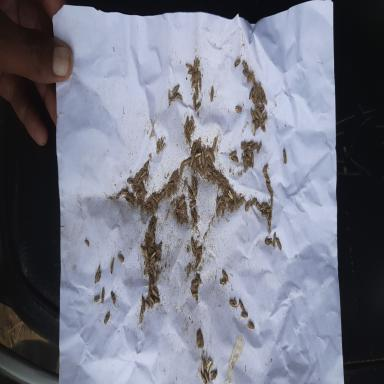pbw: (228, 300, 238, 312), (200, 371, 208, 384), (110, 290, 116, 307), (238, 298, 245, 312), (275, 237, 282, 251), (142, 160, 150, 171), (256, 202, 264, 213), (218, 196, 226, 207), (263, 171, 270, 183), (172, 84, 180, 94), (210, 370, 218, 380), (138, 308, 143, 324), (195, 272, 201, 285), (256, 142, 262, 155), (178, 196, 185, 207), (158, 189, 165, 200), (247, 73, 254, 84), (152, 287, 159, 298), (194, 245, 200, 257), (245, 198, 251, 210), (142, 296, 146, 314), (282, 149, 286, 167), (228, 150, 237, 158), (95, 265, 99, 283), (234, 105, 242, 114), (256, 106, 262, 118), (191, 80, 198, 90), (204, 369, 209, 383), (104, 311, 109, 325), (265, 236, 272, 246), (134, 179, 141, 189), (117, 254, 124, 264), (250, 152, 254, 169), (110, 257, 114, 274), (257, 81, 261, 98), (228, 189, 234, 200), (150, 223, 156, 234), (222, 270, 228, 281), (140, 181, 146, 192), (249, 87, 254, 100), (255, 97, 260, 110), (250, 108, 255, 121), (246, 322, 254, 330), (198, 76, 202, 92), (250, 143, 258, 151), (210, 86, 214, 102), (242, 69, 250, 77), (189, 199, 196, 208), (250, 197, 257, 206), (149, 251, 156, 260), (194, 84, 198, 99), (148, 219, 152, 234), (262, 163, 268, 173), (217, 204, 223, 214), (272, 231, 276, 246), (171, 93, 177, 103), (242, 60, 248, 70), (261, 112, 267, 122), (145, 261, 149, 275), (252, 122, 256, 136), (148, 236, 152, 250), (219, 278, 227, 285), (184, 116, 188, 130), (195, 254, 199, 268), (187, 67, 194, 75), (208, 363, 213, 374), (193, 144, 198, 155), (234, 58, 240, 67), (238, 197, 244, 206), (193, 91, 196, 109), (267, 186, 273, 195), (149, 263, 155, 272), (101, 286, 104, 304), (195, 102, 201, 111), (192, 178, 196, 191), (188, 186, 192, 199), (190, 153, 194, 166), (191, 236, 194, 253), (251, 94, 256, 104), (241, 311, 248, 318), (231, 155, 238, 162), (184, 157, 190, 165), (140, 170, 146, 178), (223, 196, 231, 202), (168, 90, 171, 106), (176, 92, 182, 100), (201, 358, 204, 374), (253, 111, 259, 119), (156, 138, 159, 154), (194, 152, 202, 158), (265, 180, 271, 188), (149, 266, 154, 275), (262, 96, 267, 105), (188, 119, 192, 130), (189, 123, 193, 134), (261, 87, 265, 98), (145, 249, 149, 260), (266, 206, 273, 212), (167, 180, 174, 186), (125, 198, 132, 204), (185, 63, 192, 69), (144, 301, 150, 308), (116, 191, 122, 198), (191, 72, 195, 82), (161, 142, 165, 152), (84, 239, 89, 247), (207, 360, 212, 368), (152, 194, 157, 202), (150, 256, 155, 264), (199, 156, 202, 169), (127, 178, 133, 184), (247, 140, 253, 146), (136, 190, 142, 196), (203, 357, 206, 369), (94, 297, 101, 302), (191, 176, 193, 192), (202, 150, 204, 166), (150, 296, 154, 304), (252, 77, 256, 85), (194, 56, 197, 66), (262, 212, 268, 217), (160, 137, 162, 151), (196, 58, 198, 72), (260, 104, 264, 111), (216, 195, 218, 209), (262, 119, 266, 126), (255, 83, 257, 96), (206, 358, 210, 364), (152, 234, 155, 242), (142, 174, 148, 178), (193, 188, 195, 199), (271, 191, 273, 202), (191, 292, 198, 295), (206, 356, 207, 371), (254, 86, 255, 98)
